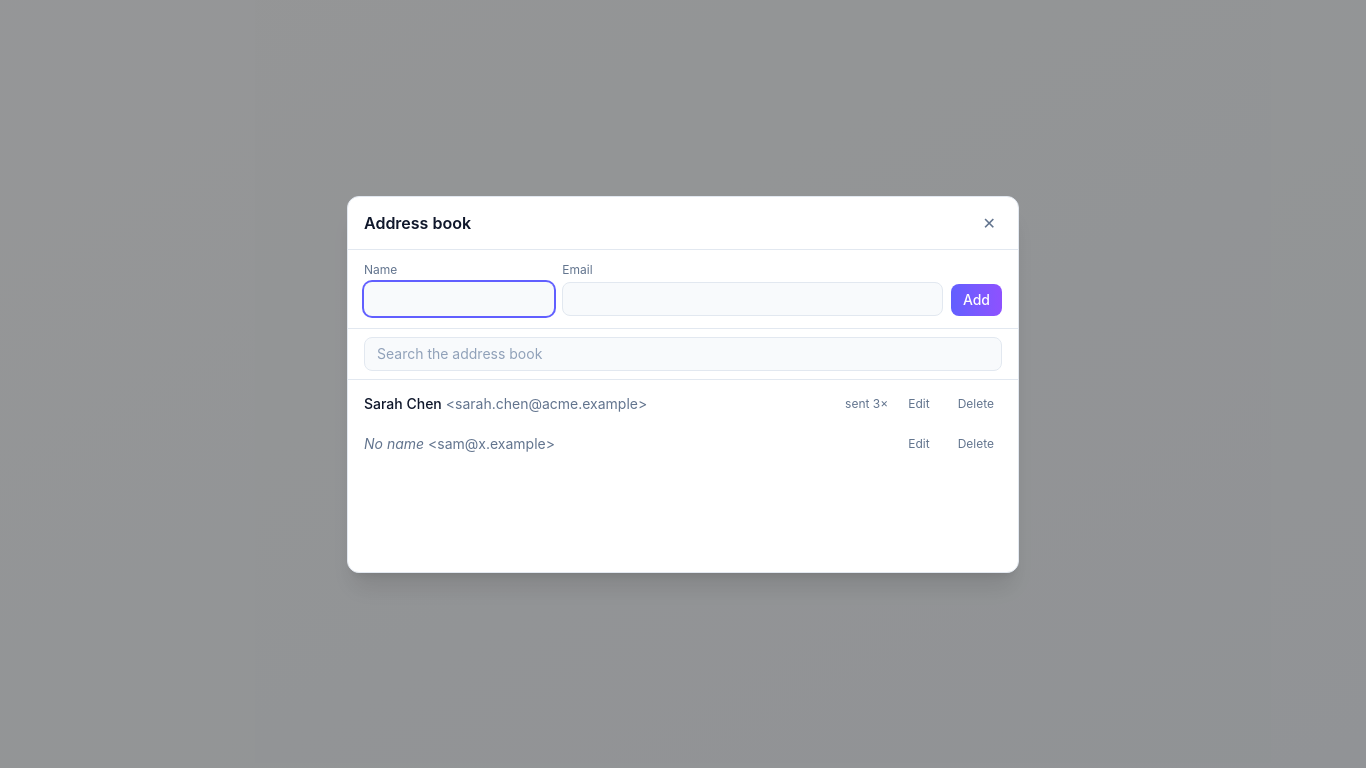
Test: AddressBookDialog › deletes an entry
Expected: the list named "Contacts" is shown, x1=348 y1=384 x2=1018 y2=464
Click the button with aria-label "Delete Sarah Chen <sarah.chen@acme.example>". click: (976, 404)
box: x1=950 y1=392 x2=1002 y2=416
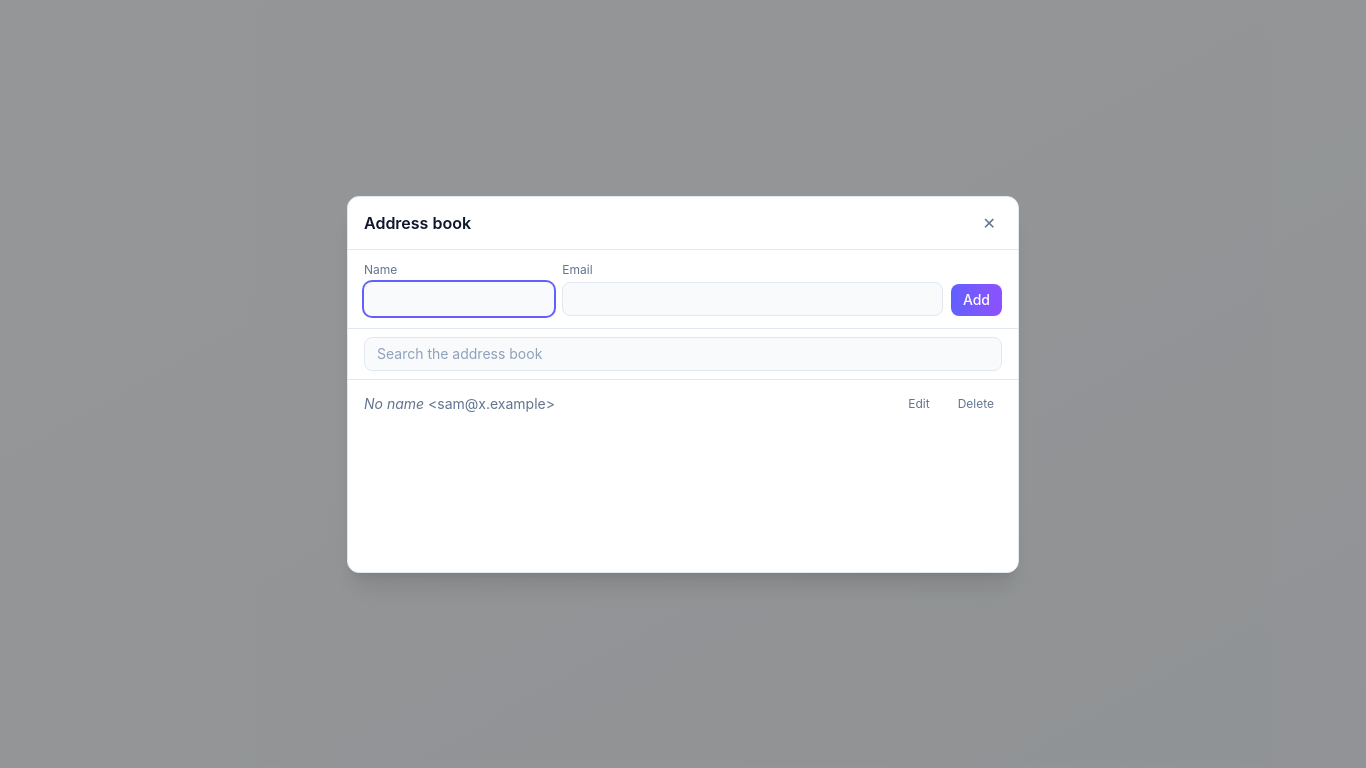
Now the number of list items is 1, box x1=348 y1=384 x2=1018 y2=424
